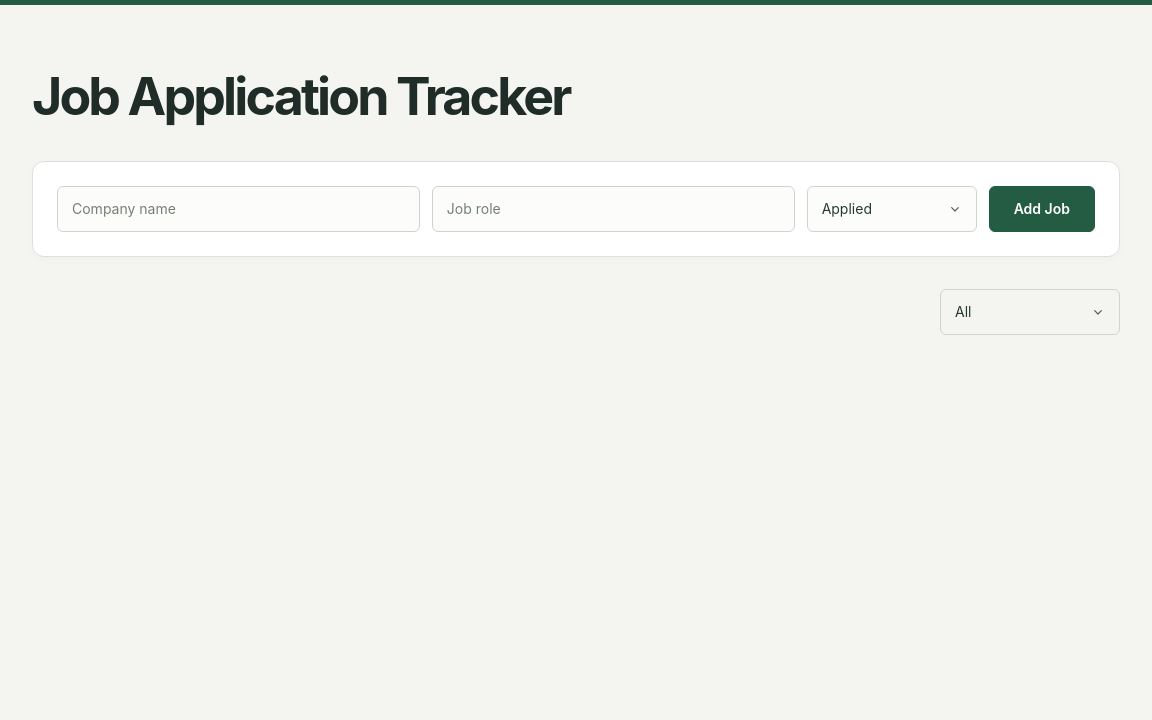
Scenario: Job Application Tracker › find interviewing
Type "OpenAI" into the field with placeholder "Company name".
click(238, 209); type("OpenAI")  # box top-left (57, 186), bottom-right (420, 232)
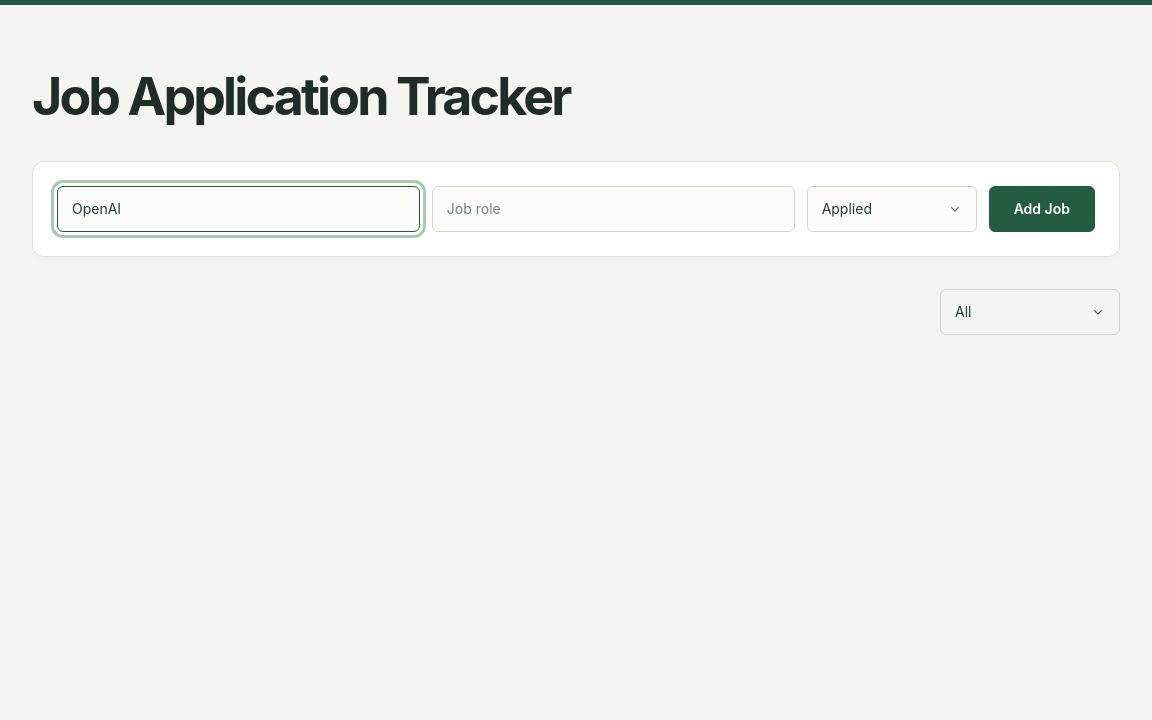
Type "Backend Developer" into the field with placeholder "Job role".
click(613, 209); type("Backend Developer")  # box top-left (432, 186), bottom-right (795, 232)
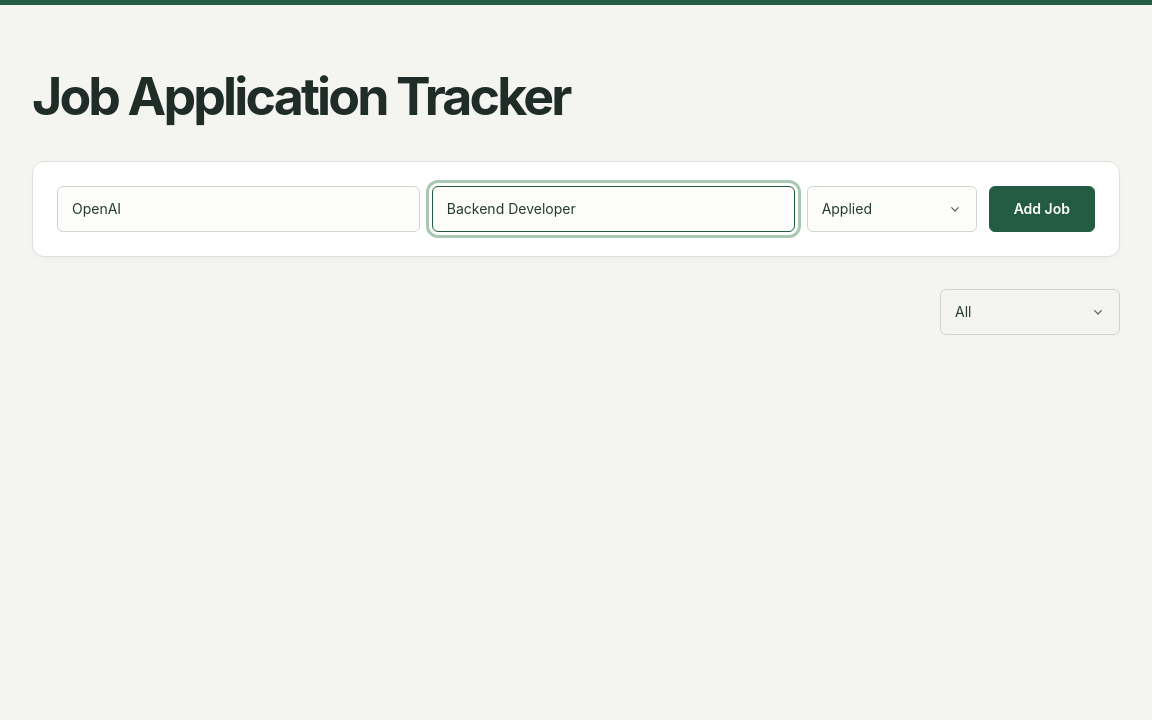
Click the button "Add Job".
click(1042, 209)  # box top-left (989, 186), bottom-right (1095, 232)
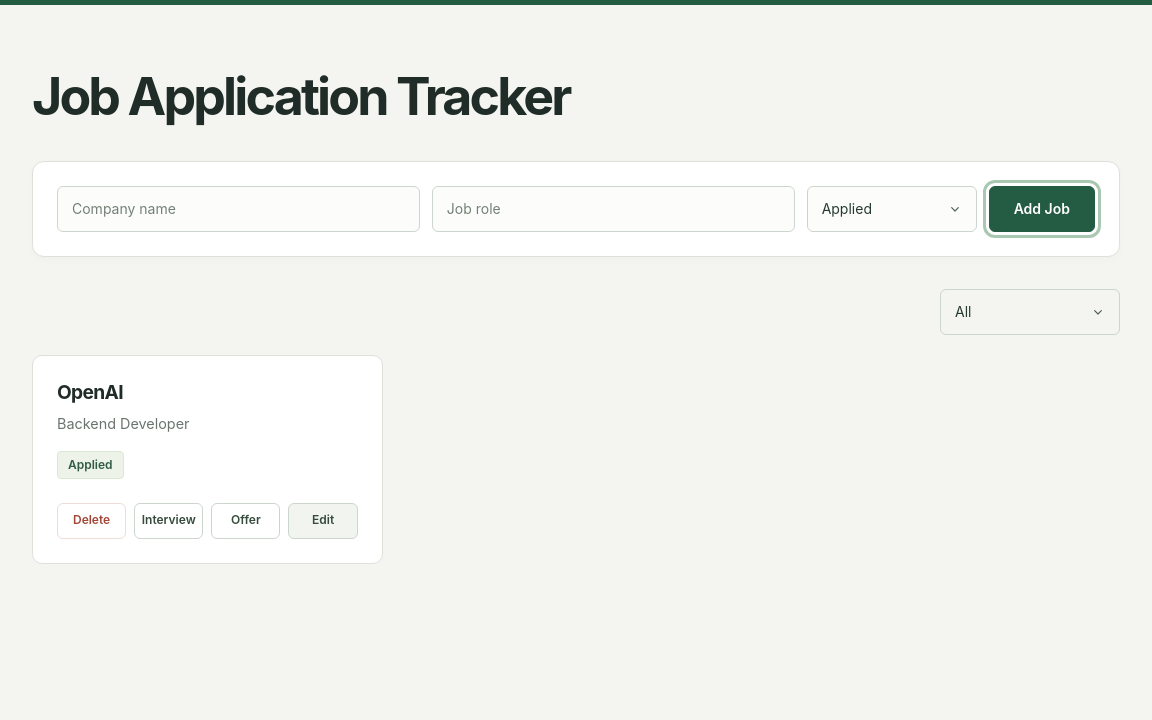
Click the button "Interview".
click(169, 520)  # box top-left (134, 502), bottom-right (203, 538)
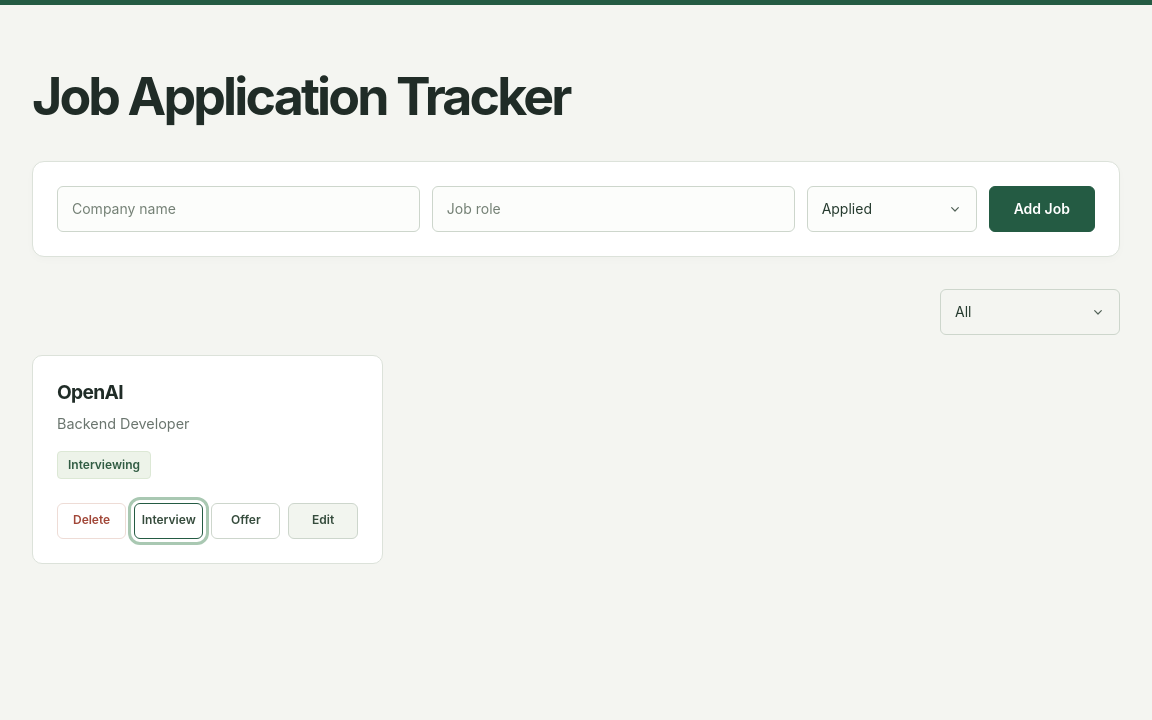
Now the heading "OpenAI" is shown, box top-left (57, 380), bottom-right (123, 404)
Now the text "Backend Developer" is shown, box top-left (57, 415), bottom-right (190, 432)
Now the text "Interviewing" is shown, box top-left (57, 450), bottom-right (151, 478)
